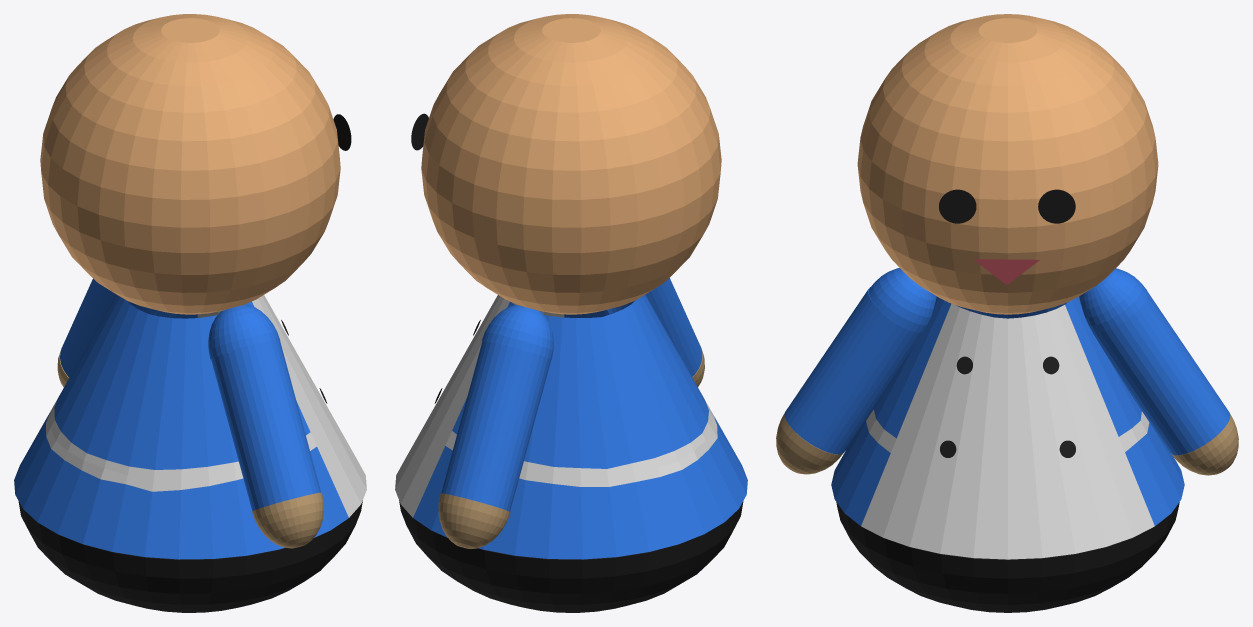
The model's file is Player_final.fbx.
3 renders of one model, left to right at view 1: azimuth 30°, elevation 25°; view 2: azimuth 150°, elevation 25°; view 3: azimuth 270°, elevation 25°, orthographic.
Visible parts, largest first — view 1: head, body, Sphere.001, 足下半身, Sphere.002; view 2: head, body, Sphere.002, 足下半身, Sphere.001; view 3: head, body, Sphere.001, Sphere.002, 足下半身, Cylinder, Cylinder.001, botan, Cube.
Part boxes in pixels (bbox=[...]): head: bbox=[40, 14, 340, 314]; body: bbox=[14, 295, 366, 559]; Sphere.001: bbox=[208, 304, 323, 548]; 足下半身: bbox=[18, 500, 362, 612]; Sphere.002: bbox=[57, 278, 156, 387]; head: bbox=[421, 14, 721, 314]; body: bbox=[395, 295, 747, 559]; Sphere.002: bbox=[438, 305, 553, 548]; 足下半身: bbox=[399, 500, 743, 612]; Sphere.001: bbox=[607, 278, 704, 386]; head: bbox=[857, 14, 1158, 314]; body: bbox=[831, 296, 1184, 559]; Sphere.001: bbox=[776, 268, 936, 474]; Sphere.002: bbox=[1079, 268, 1238, 475]; 足下半身: bbox=[836, 502, 1179, 612]; Cylinder: bbox=[939, 189, 976, 223]; Cylinder.001: bbox=[1038, 189, 1075, 223]; botan: bbox=[940, 356, 1075, 457]; Cube: bbox=[974, 259, 1039, 285].
Size of the model in its own units: 200 by 349 by 262.
